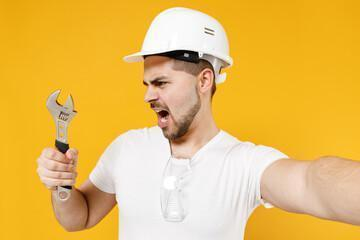helmet: (123, 7, 233, 69)
